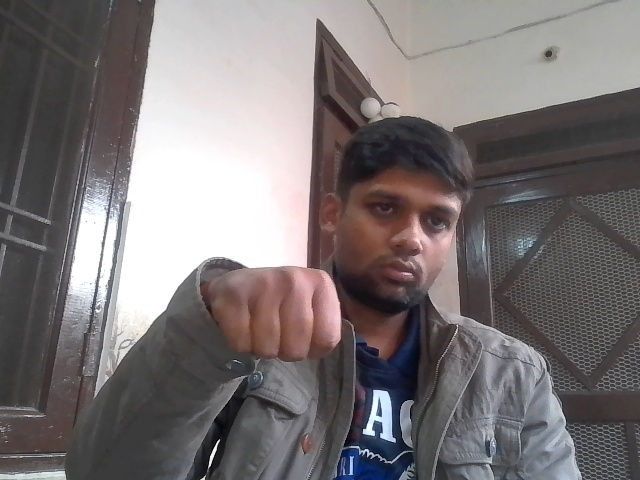Yes: (198, 260, 347, 378)
